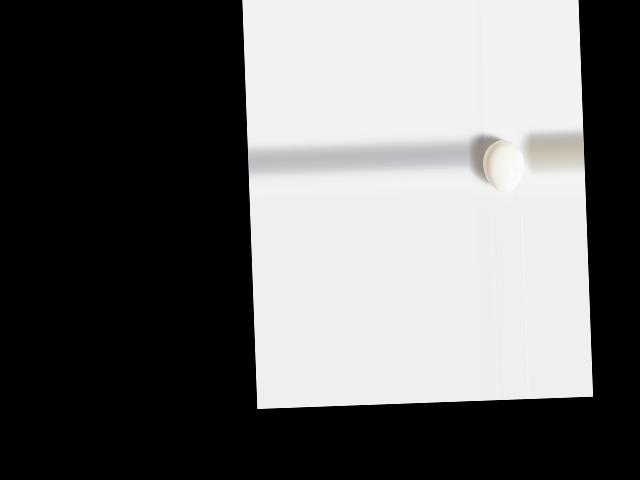egg: (482, 138, 524, 192)
